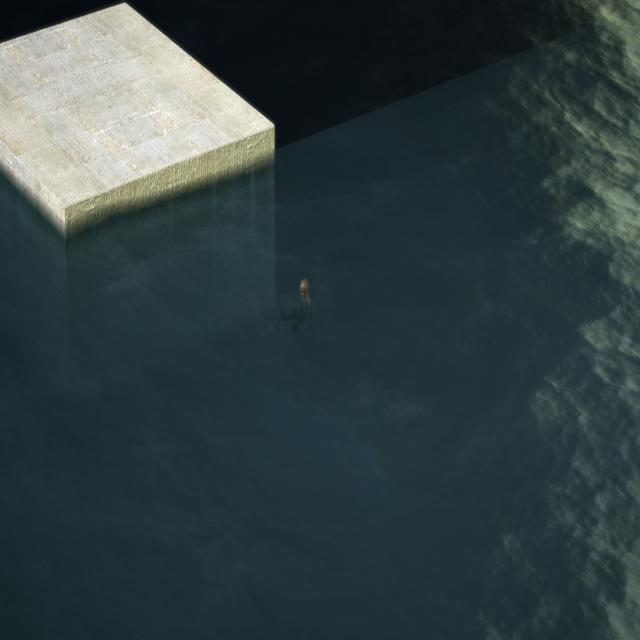Human: (280, 276, 316, 342)
